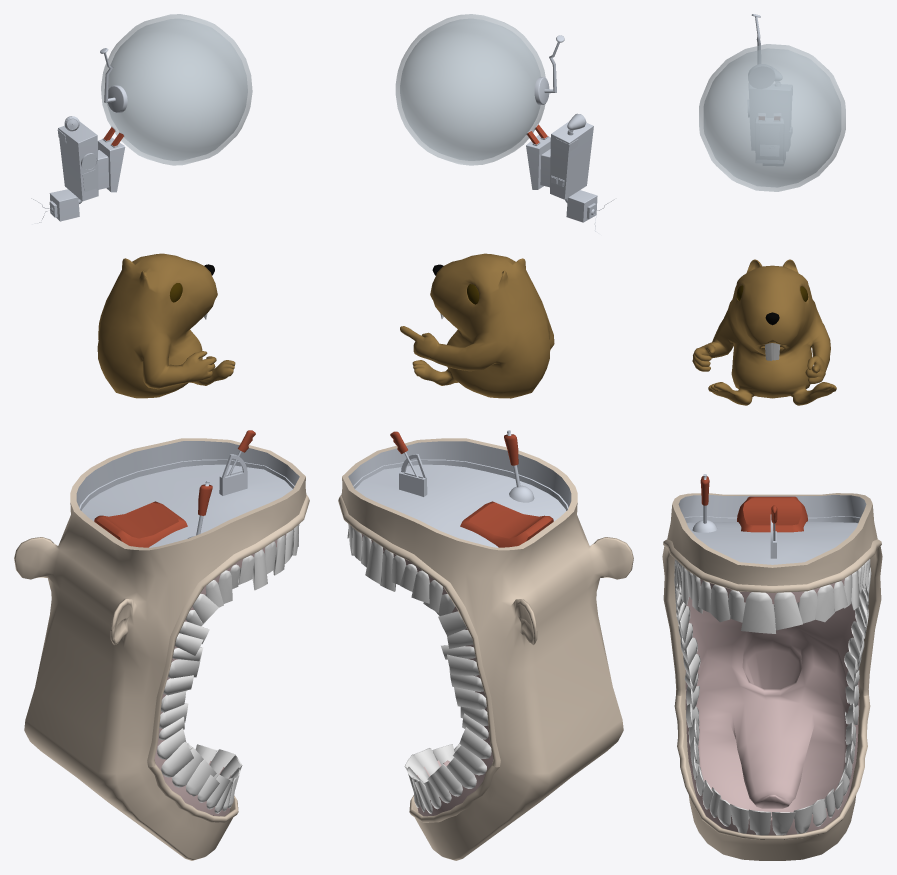
File: GophOverLapExp.fbx
3 renders of one model, left to right at view 1: azimuth 30°, elevation 25°; view 2: azimuth 150°, elevation 25°; view 3: azimuth 270°, elevation 25°, orthographic.
Visible parts, largest first — view 1: Heed, Orb, Goph, Backpack, Chair, Box, SwitchBase, Tooth24, Tooth18; view 2: Heed, Orb, Goph, Backpack, Chair, Box, SwitchBase, Tooth28; view 3: Heed, Orb, Goph, Backpack, Chair, Tooth5, Tooth6, Tooth7, Tooth46, Tooth48, Tooth29, Tooth30 (+1 smaller).
Boxes of the visible parts, left/top/right/bottom form: Heed: left=14, top=438, right=309, bottom=860; Orb: left=100, top=14, right=252, bottom=165; Goph: left=97, top=253, right=235, bottom=398; Backpack: left=58, top=121, right=125, bottom=201; Chair: left=94, top=501, right=187, bottom=547; Box: left=49, top=189, right=79, bottom=221; SwitchBase: left=219, top=454, right=247, bottom=495; Tooth24: left=161, top=741, right=193, bottom=777; Tooth18: left=185, top=759, right=216, bottom=796; Heed: left=338, top=438, right=633, bottom=860; Orb: left=395, top=14, right=564, bottom=165; Goph: left=400, top=253, right=554, bottom=398; Backpack: left=526, top=121, right=593, bottom=199; Chair: left=460, top=501, right=553, bottom=547; Box: left=566, top=190, right=597, bottom=222; SwitchBase: left=399, top=453, right=427, bottom=496; Tooth28: left=459, top=727, right=491, bottom=758; Heed: left=662, top=493, right=882, bottom=860; Orb: left=699, top=14, right=845, bottom=191; Goph: left=692, top=259, right=836, bottom=405; Backpack: left=749, top=84, right=791, bottom=163; Chair: left=737, top=496, right=807, bottom=532; Tooth5: left=741, top=592, right=776, bottom=633; Tooth6: left=774, top=592, right=802, bottom=630; Tooth7: left=710, top=584, right=730, bottom=622; Tooth46: left=815, top=584, right=834, bottom=622; Tooth48: left=797, top=589, right=817, bottom=623; Tooth29: left=748, top=809, right=771, bottom=835; Tooth30: left=772, top=812, right=795, bottom=835.
Bounding box in the file's own units: 8.37 × 24.45 × 6.1.
